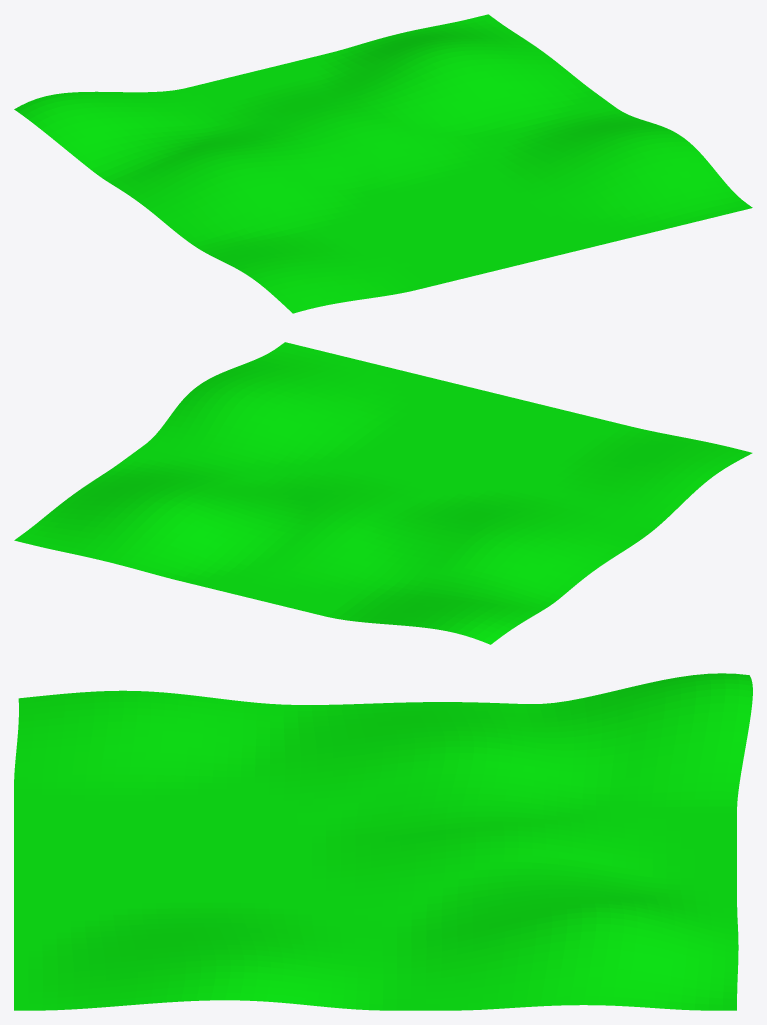
File: Field.glb
3 renders of one model, top to bottom at view 1: azimuth 30°, elevation 25°; view 2: azimuth 150°, elevation 25°; view 3: azimuth 270°, elevation 25°, orthographic. The views are drawn at different scales.
Parts seen in each view (by area): view 1: Plane; view 2: Plane; view 3: Plane.
Part boxes in pixels (x1,y1,x2,y2): Plane: (14, 14, 752, 313); Plane: (14, 342, 752, 644); Plane: (14, 673, 752, 1010).
Bounding box in the file's own units: 62.68 × 2.72 × 61.32.
